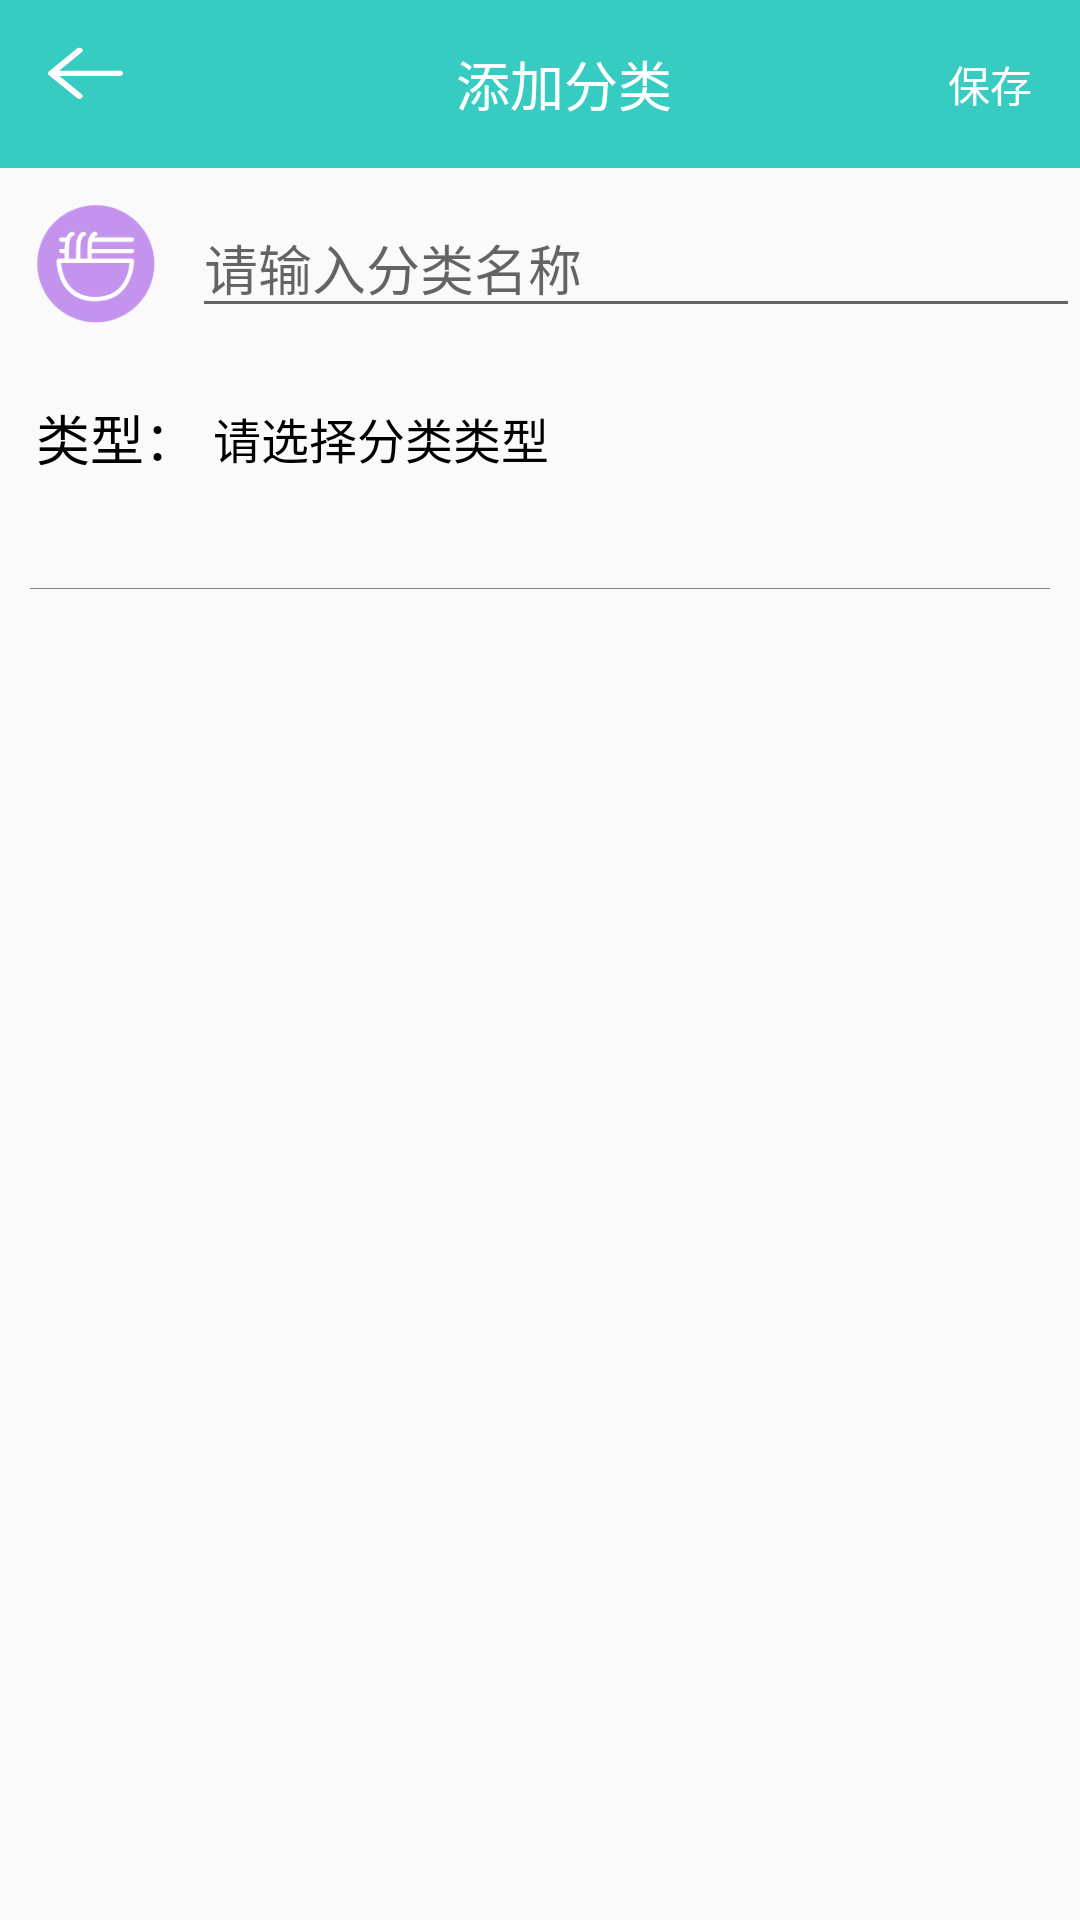

Where icons sit on this 1080x1920 app screen, as bbox=[x1, y1, x2, y2]:
category food: bbox=[37, 205, 155, 323]
pre: bbox=[48, 47, 123, 99]
